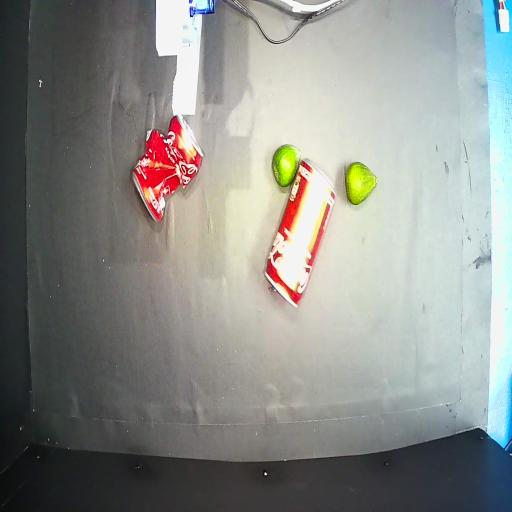higo: (345, 162, 377, 205), (272, 144, 301, 187)
lata: (265, 160, 335, 307)
lata_defectuoso: (132, 116, 203, 221)
